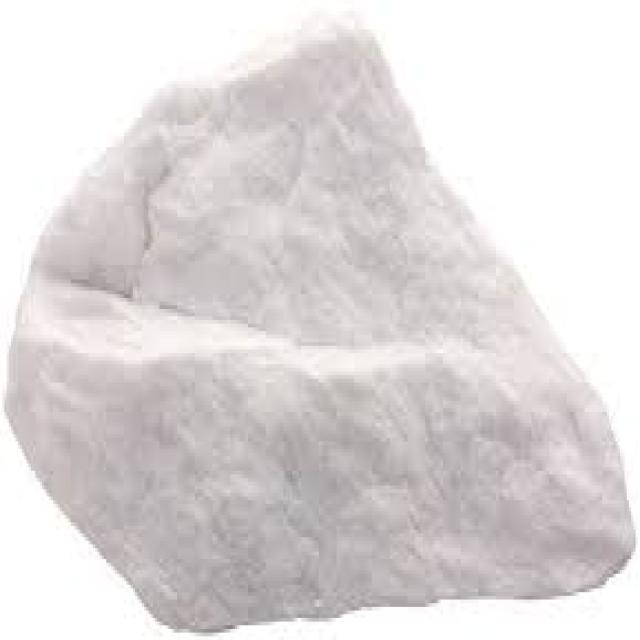Metamorphic: (9, 15, 635, 618)
